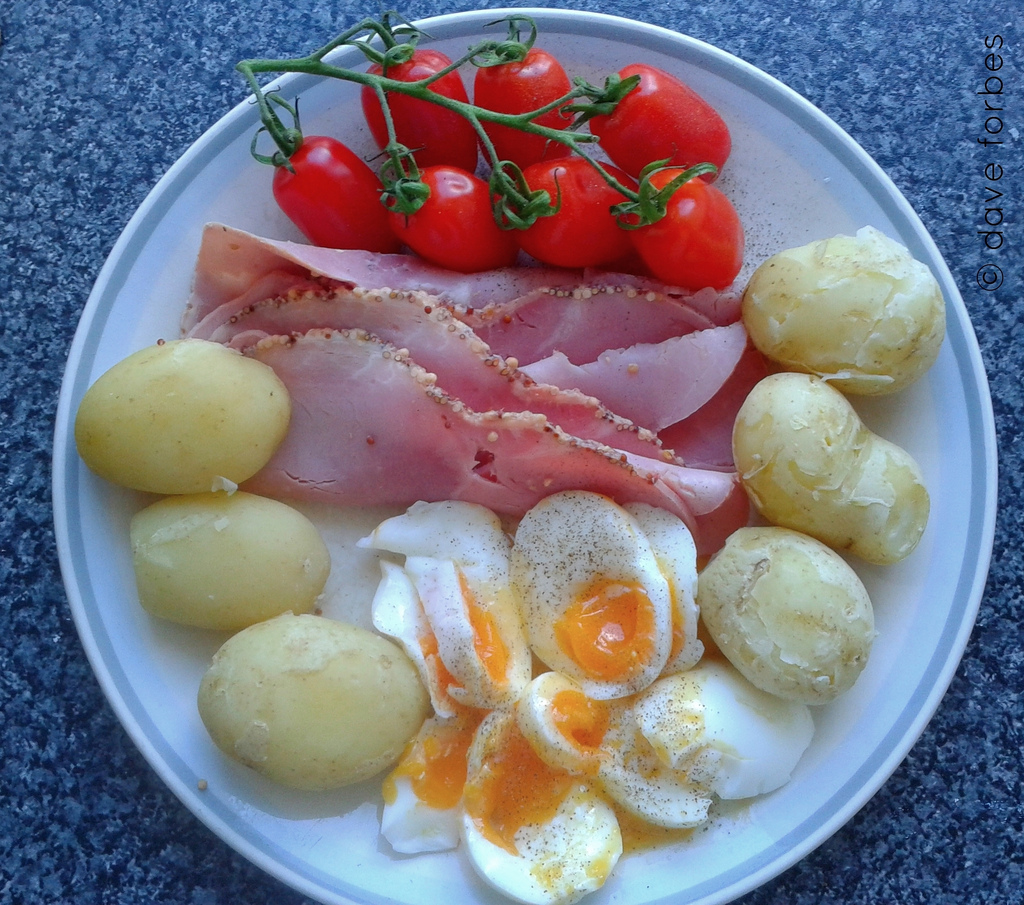boiled potatoes: (184, 620, 424, 784), (734, 372, 920, 546), (72, 342, 274, 486), (748, 233, 953, 373), (130, 490, 326, 629), (710, 525, 864, 686)
fried egg: (393, 512, 742, 884)
